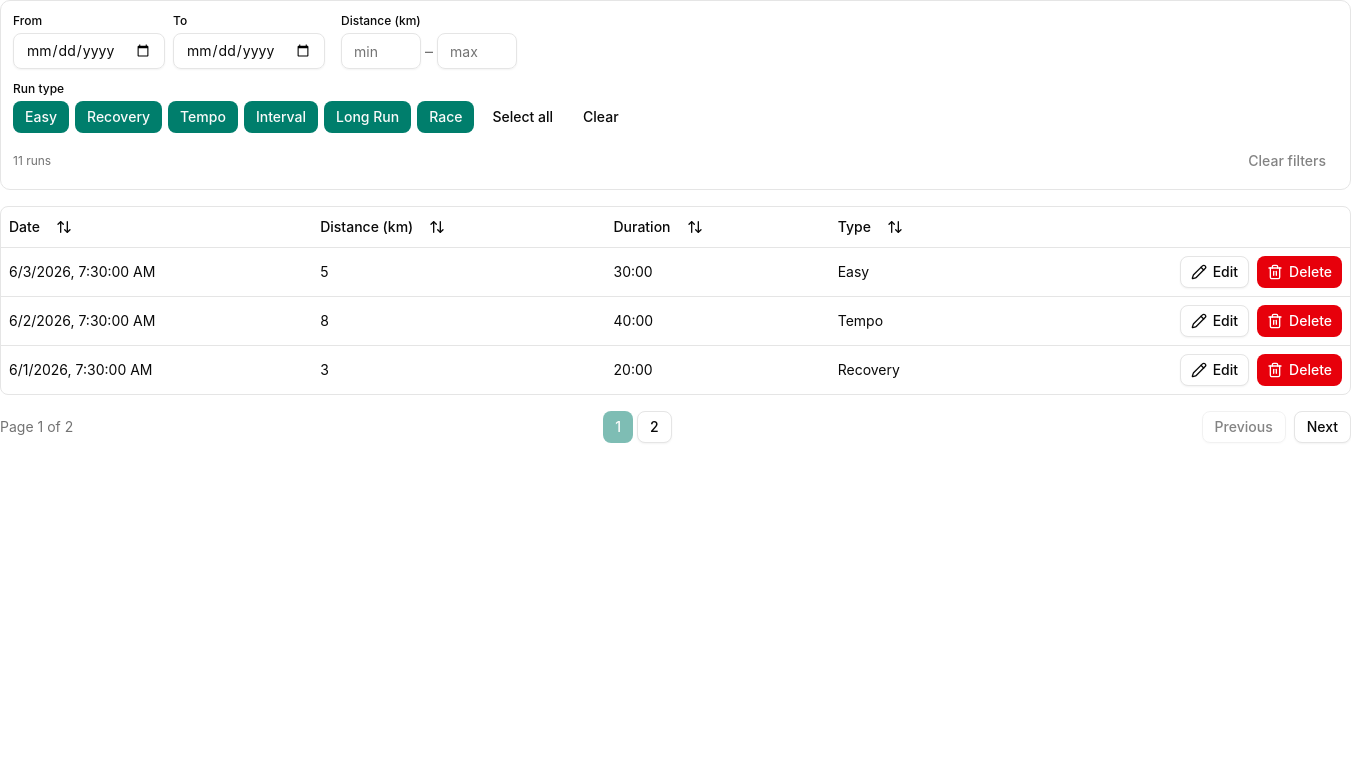
RunList pagination › clamps to the previous page when the last run on the last page is deleted
The image size is (1366, 768).
Check: the navigation bar named "Run pages" is shown, box [0,410,1351,442]
Go to the last page (offset 10).
Step 1. Click the button "Next" → (1322, 426), box [1294,410,1351,442]
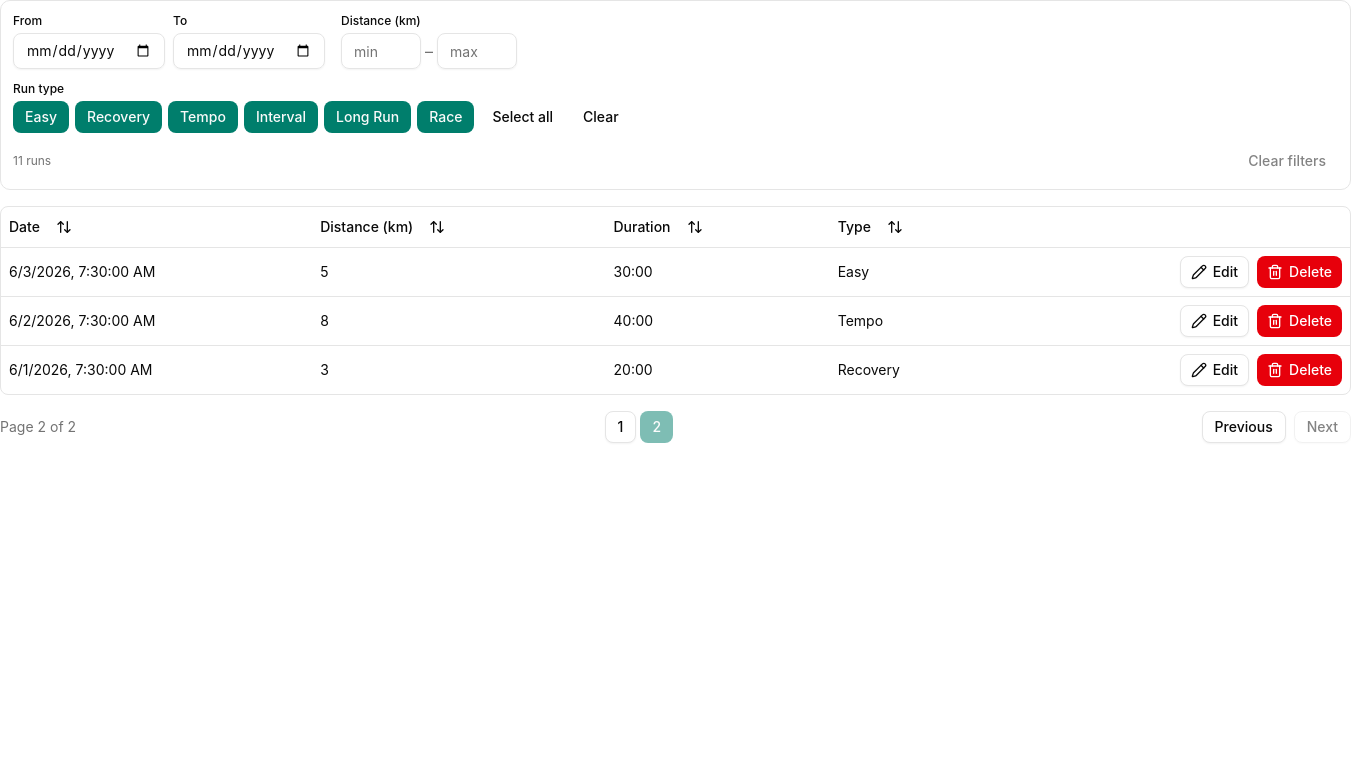
Check: the text "Page 2 of 2" is shown, box [0,416,76,436]
Step 2. Click the button "Delete" in the row of "6/3/2026, 7:30:00 AM" → (1300, 272), box [1257,256,1342,288]
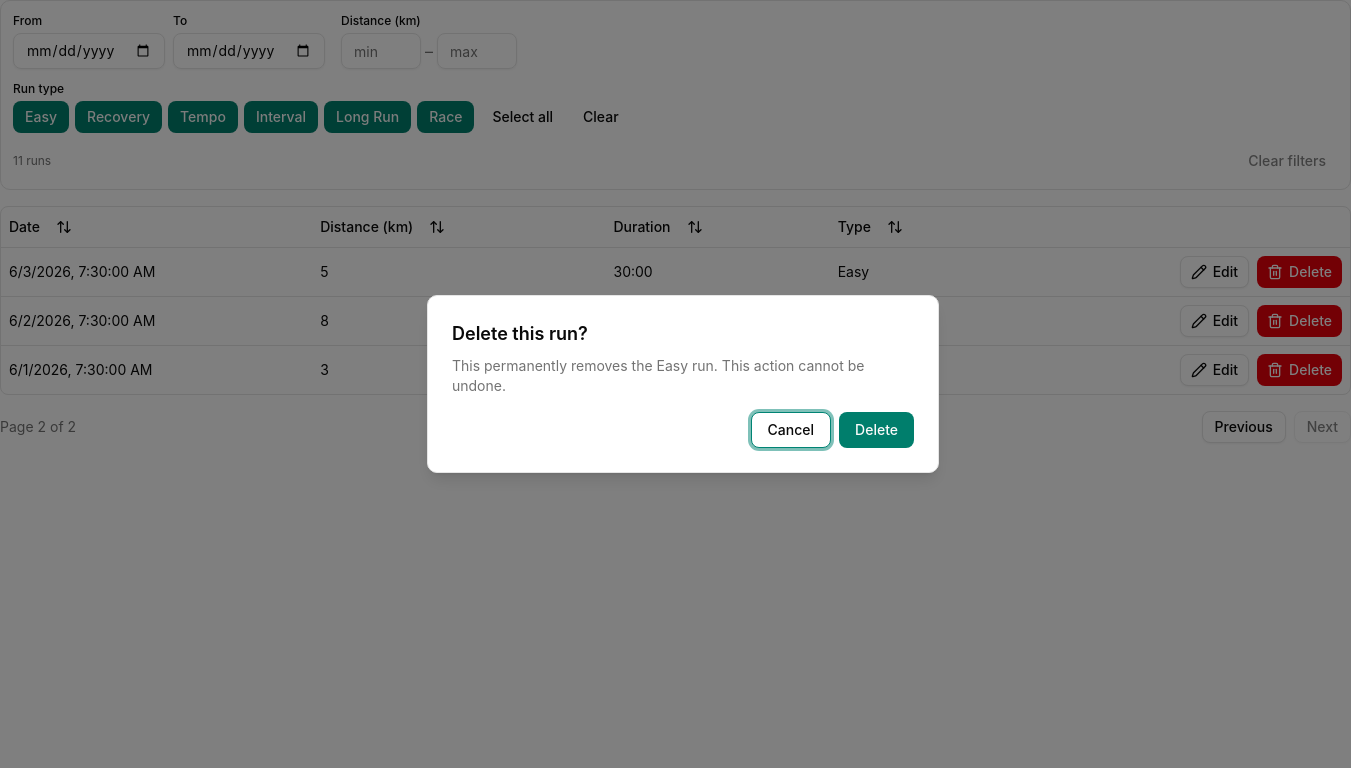
Step 3. Click the button "Delete" → (877, 430), box [839,412,914,448]
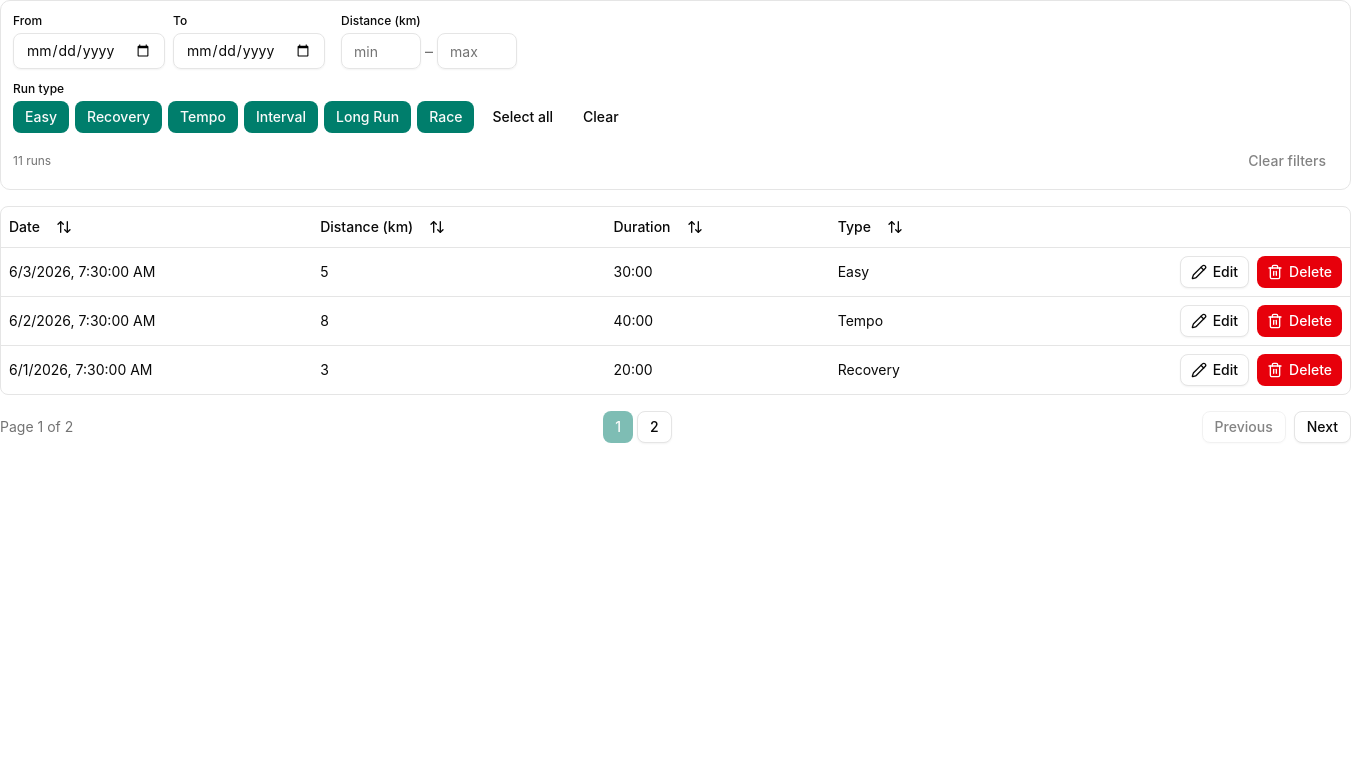
Check: the text "Page 1 of 2" is shown, box [0,416,73,436]
